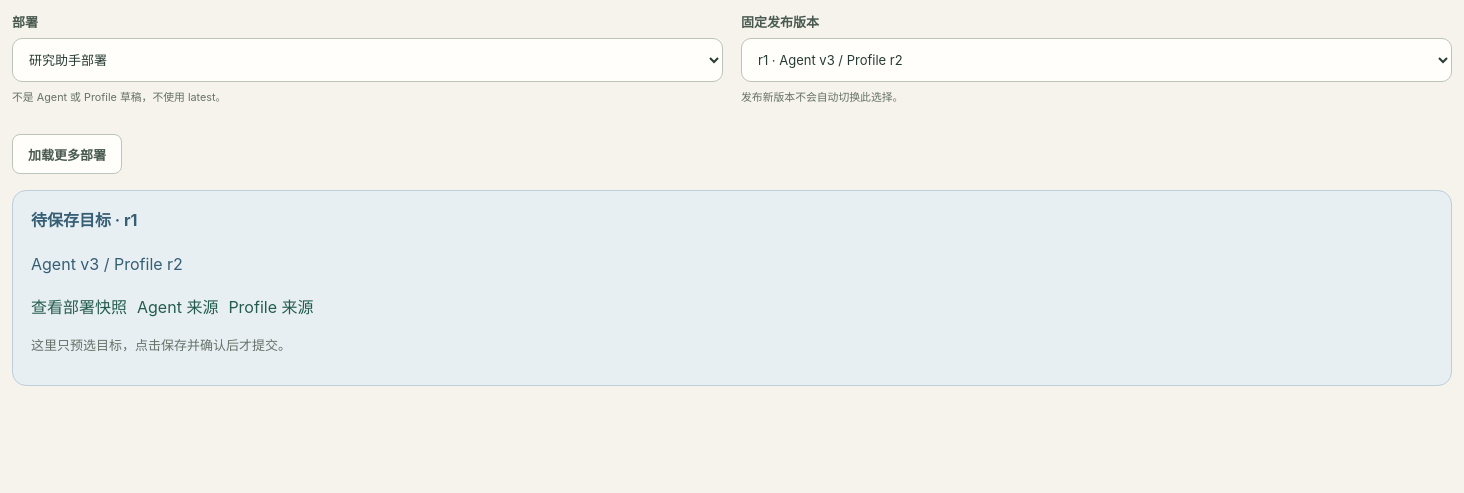
Test case: Channel fixed Deployment target selector › does not clear a failed deployment-page guard when a different revision is selected
expect the text "待保存目标 · r1" is shown: met, box [31,210,137,230]
Click the button "加载更多部署": (67, 154) [12,134,122,174]
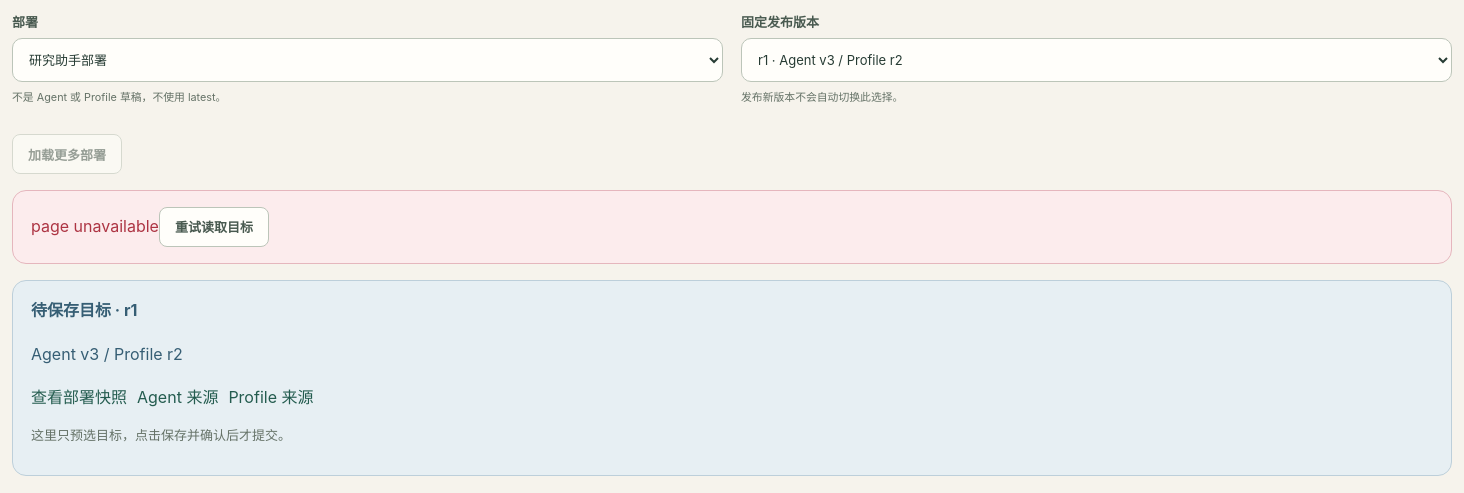
expect the message "page unavailable 重试读取目标" is shown: met, box [12,190,1452,264]
Select "r2 · Agent v3 / Profile r2" in the dropdown named "渠道固定部署版本": (1096, 60) [741,38,1452,82]
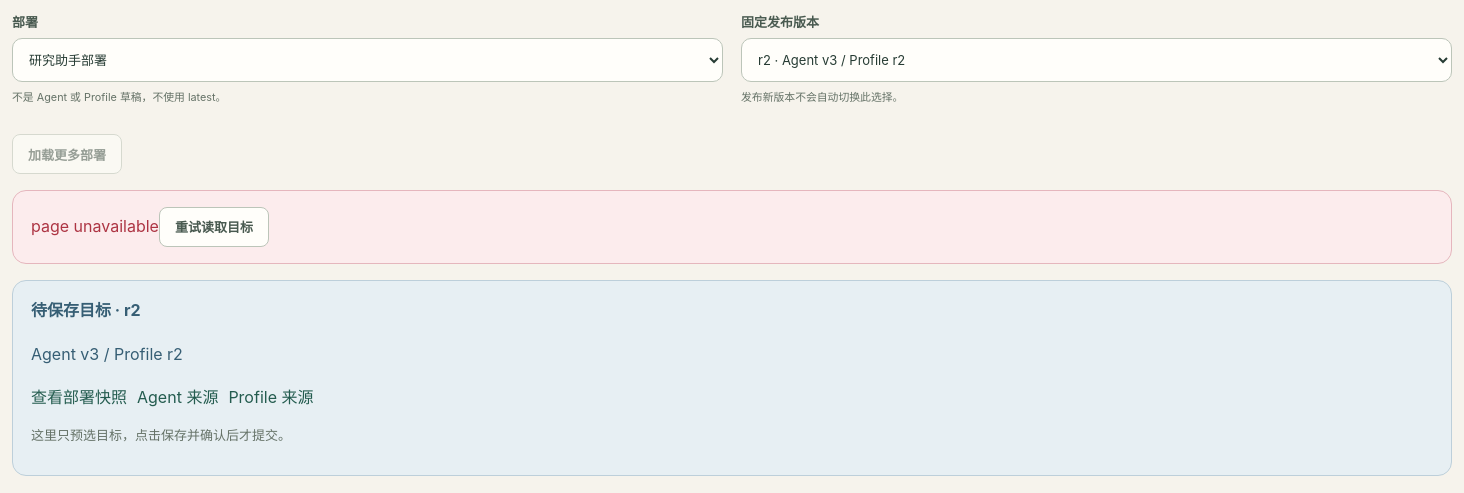
expect the button "加载更多部署" is disabled: met, box [12,134,122,174]
expect the button "重试读取目标" is shown: met, box [159,207,269,247]
expect the text "待保存目标 · r2" is shown: met, box [31,300,140,320]
